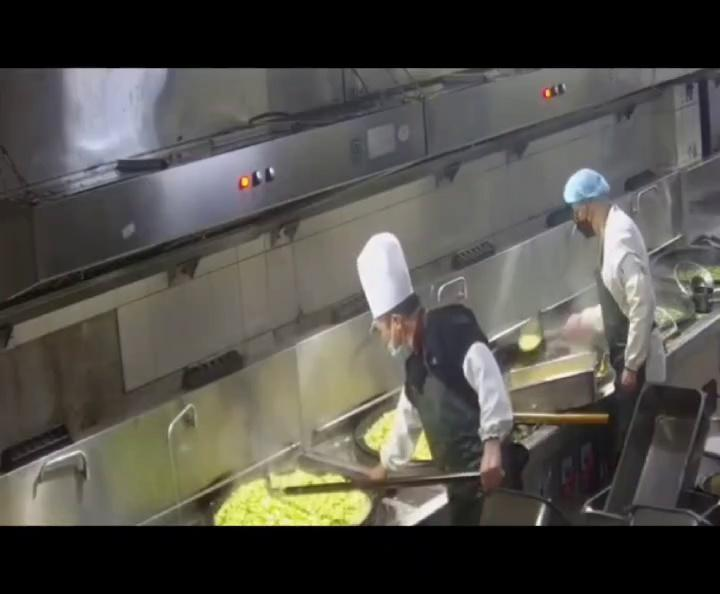mask: (378, 316, 413, 360)
